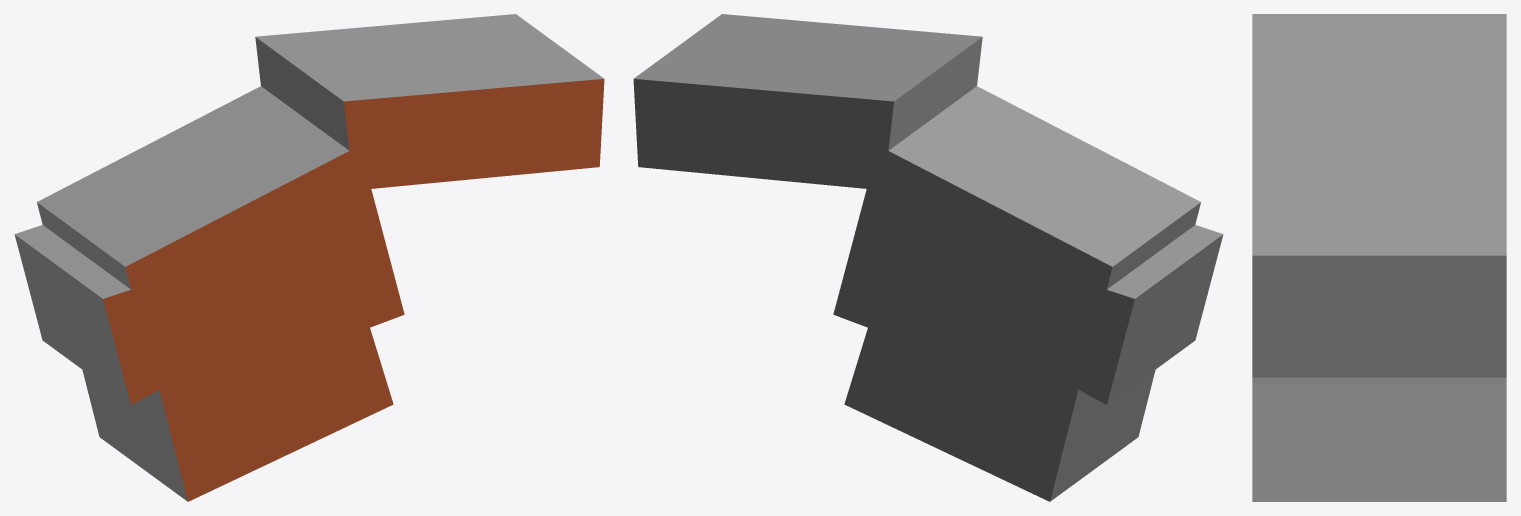
The model's file is construction_5137_assumed_A_Casa_h6m.obj.
The picture shows the model from 3 angles, left to right: view 1: azimuth 30°, elevation 25°; view 2: azimuth 150°, elevation 25°; view 3: azimuth 270°, elevation 25°; orthographic projection. The views are drawn at different scales.
Parts seen in each view (by area): view 1: construction_5137_assumed_A_Casa; view 2: construction_5137_assumed_A_Casa; view 3: construction_5137_assumed_A_Casa.
Part boxes in pixels (x1,y1,x2,y2): construction_5137_assumed_A_Casa: (14,14,604,501); construction_5137_assumed_A_Casa: (633,14,1223,501); construction_5137_assumed_A_Casa: (1252,14,1506,501).
Size of the model in its own units: 19.61 by 13.55 by 6.
